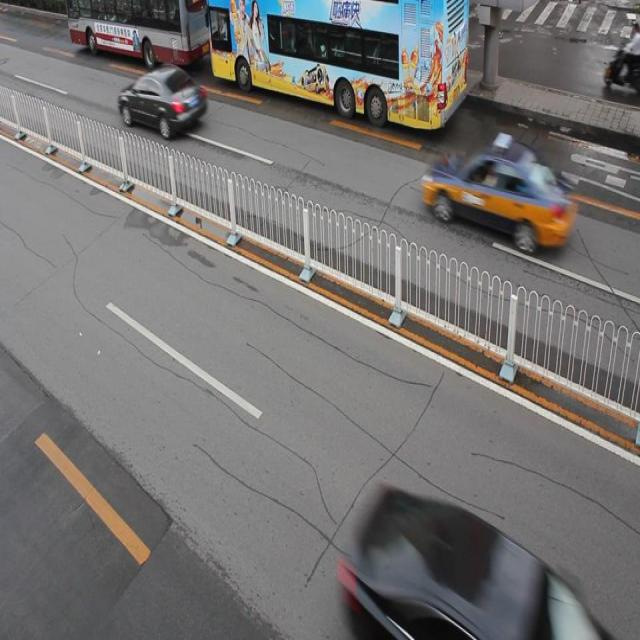car: (348, 486, 600, 640), (423, 134, 574, 250), (116, 64, 206, 137)
van: (207, 1, 466, 134), (65, 1, 210, 70)
